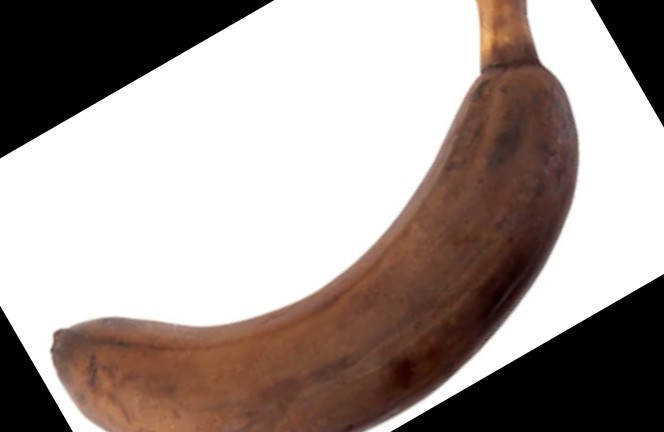rotten_banana: (53, 1, 580, 432)
